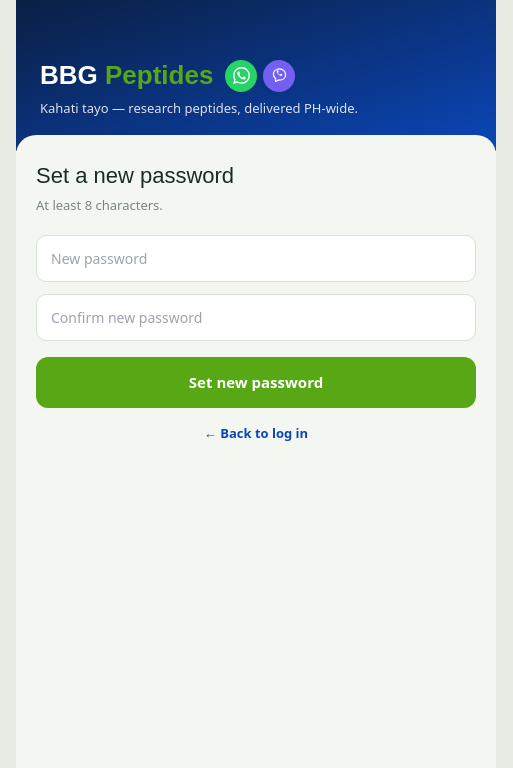
Scenario: Reset password page › shows the reason a dead link was refused
In the password field with placeholder "New password": (256, 258) [36, 235, 476, 282], type "brand-new-pw"
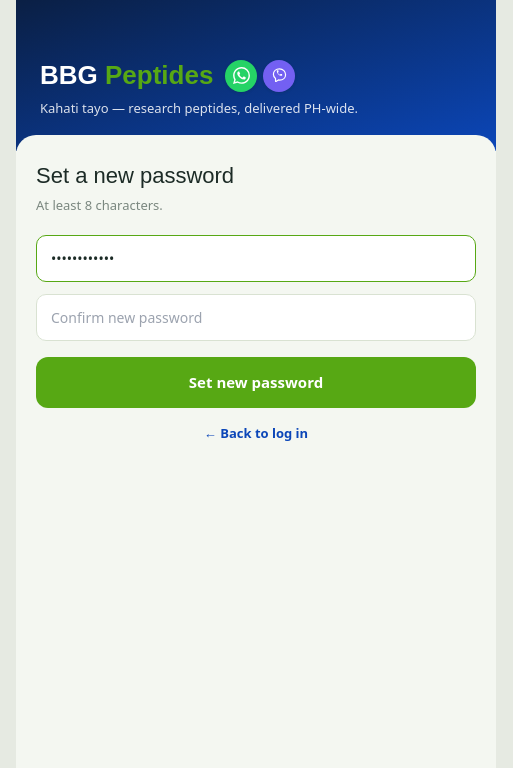
In the password field with placeholder "Confirm new password": (256, 318) [36, 294, 476, 341], type "brand-new-pw"
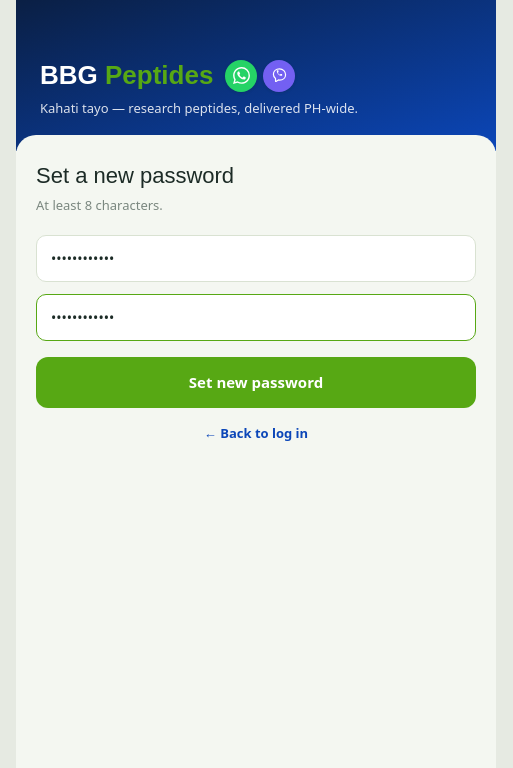
Click the button "Set new password": (256, 382) [36, 357, 476, 408]
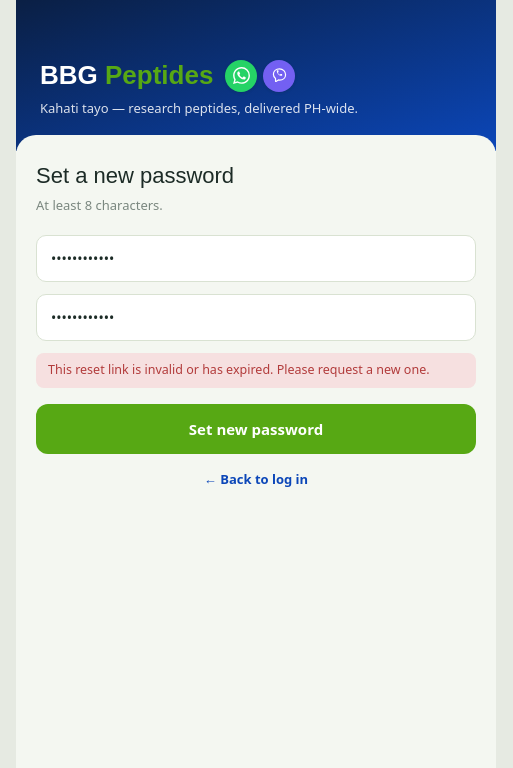
Expected: the text "invalid or has expired" is shown, [48, 361, 430, 378]
